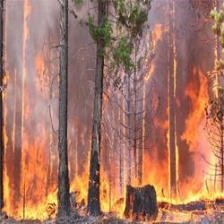fire: (3, 111, 63, 224), (181, 62, 224, 213), (69, 160, 173, 217)
